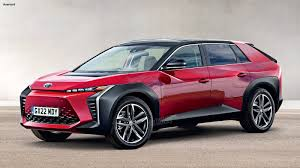Toyota: (26, 38, 274, 141)
